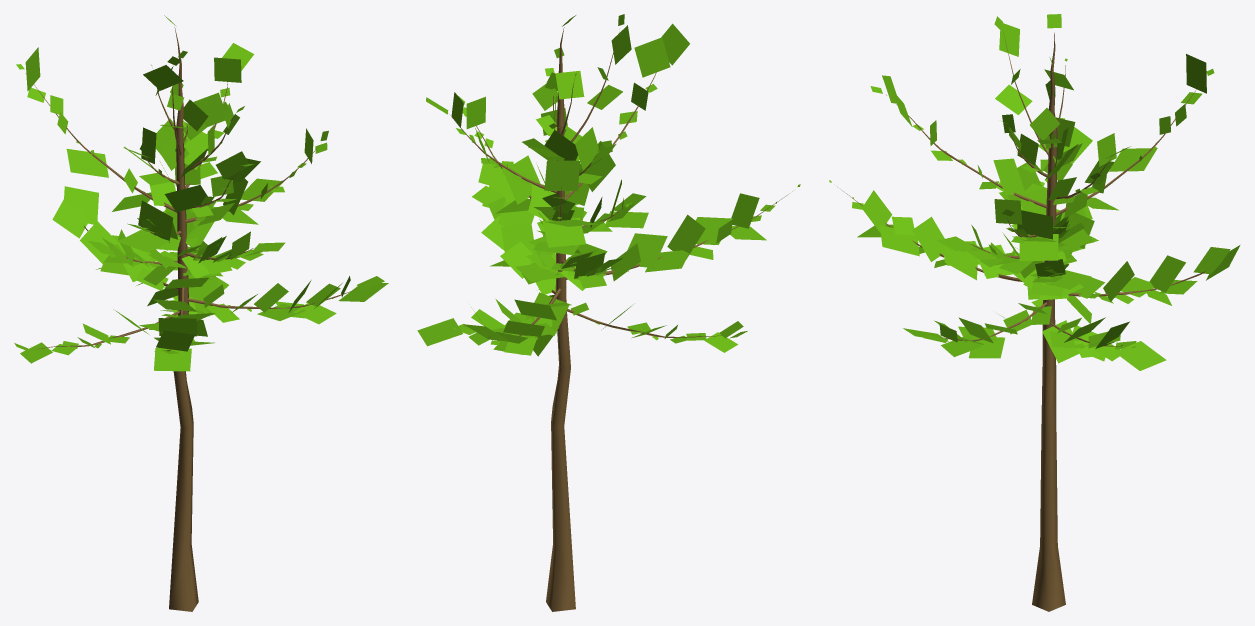
Rendered from RainForest2.fbx.
The picture shows the model from 3 angles, left to right: view 1: azimuth 30°, elevation 25°; view 2: azimuth 150°, elevation 25°; view 3: azimuth 270°, elevation 25°; orthographic projection.
Parts seen in each view (by area): view 1: leaves.003, tree; view 2: leaves.003, tree; view 3: leaves.003, tree.
Boxes of the visible parts, bbox=[...] form: leaves.003: bbox=[14, 15, 388, 371]; tree: bbox=[25, 27, 351, 611]; leaves.003: bbox=[417, 14, 800, 356]; tree: bbox=[450, 27, 792, 611]; leaves.003: bbox=[829, 14, 1240, 370]; tree: bbox=[842, 32, 1205, 611].
Size of the model in its own units: 3437 by 6103 by 3900.
Materials: 2 (1 with a texture image).
